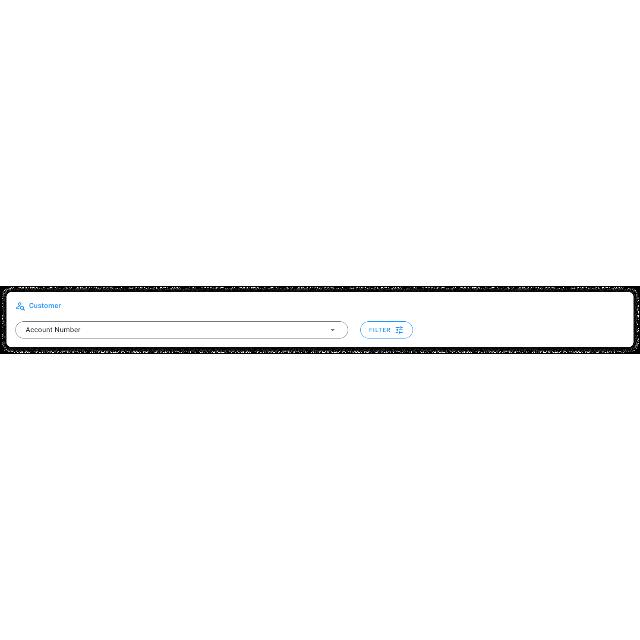QLabel: (28, 302, 62, 310), (366, 326, 392, 334)
VBtn: (361, 320, 414, 338)
VCard: (6, 291, 634, 349)
VCombobox: (16, 321, 348, 339)
VIcon: (395, 324, 405, 336), (14, 302, 26, 310)
